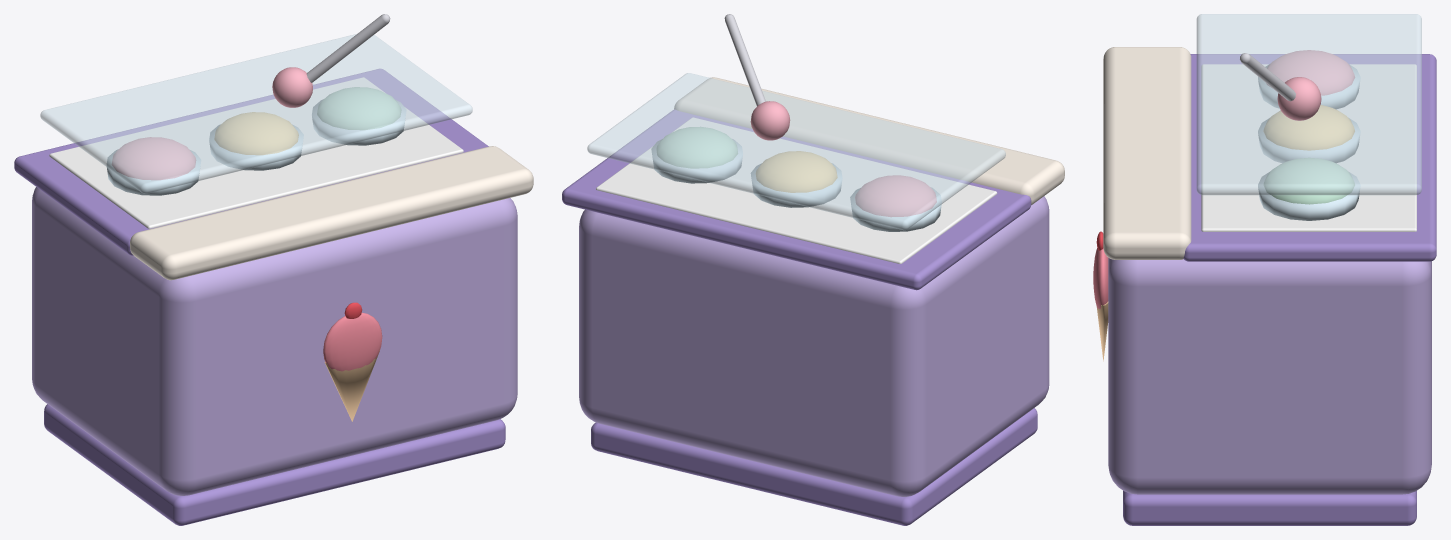
The model's file is station_freezer.glb.
3 renders of one model, left to right at view 1: azimuth 30°, elevation 25°; view 2: azimuth 150°, elevation 25°; view 3: azimuth 270°, elevation 25°, orthographic. The views are drawn at different scales.
Parts seen in each view (by area): view 1: Freezer, Cooking; view 2: Freezer, Cooking; view 3: Freezer, Cooking.
Boxes of the visible parts, left/top/right/bottom form: Freezer: left=14, top=34, right=533, bottom=525; Cooking: left=272, top=14, right=390, bottom=107; Freezer: left=562, top=73, right=1064, bottom=525; Cooking: left=724, top=14, right=790, bottom=140; Freezer: left=1093, top=14, right=1436, bottom=525; Cooking: left=1240, top=53, right=1321, bottom=120.
Size of the model in its own units: 0.94 by 0.9915 by 0.7007.
